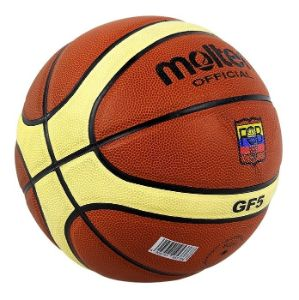baloncesto: (15, 16, 282, 283)
